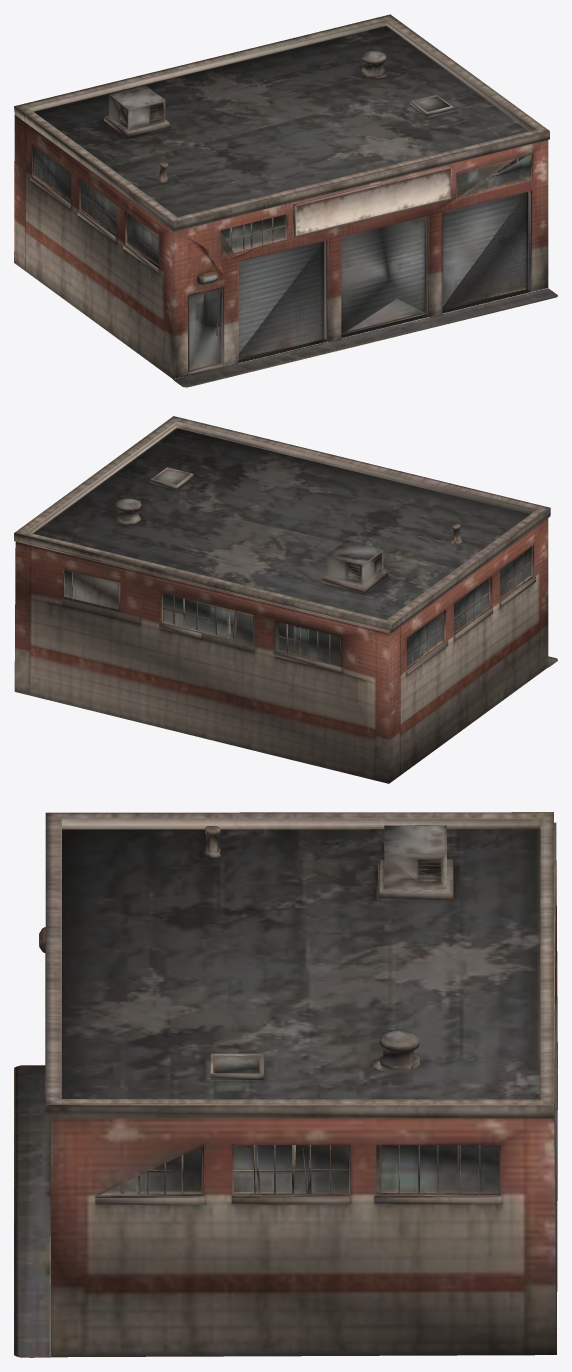
Rendered from auto-garage.glb.
3 views of the same model, one above another, from view 1: azimuth 30°, elevation 25°; view 2: azimuth 150°, elevation 25°; view 3: azimuth 270°, elevation 25° (orthographic). The views are drawn at different scales.
Size of the model in its own units: 0.9556 by 0.437 by 0.7476.
Materials: 1 (1 with a texture image).
